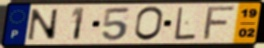1: (70, 6, 86, 43)
5: (100, 6, 132, 42)
F: (201, 5, 239, 41)
L: (173, 6, 197, 41)
N: (27, 8, 60, 42)
O: (132, 5, 165, 42)
